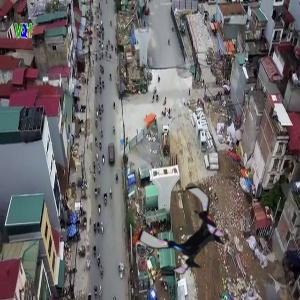drone: (144, 186, 234, 276)
